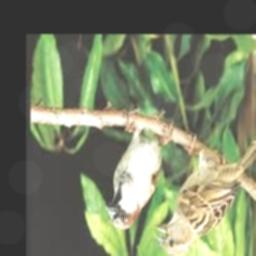Sparrow: (153, 133, 256, 256), (105, 110, 173, 230)
